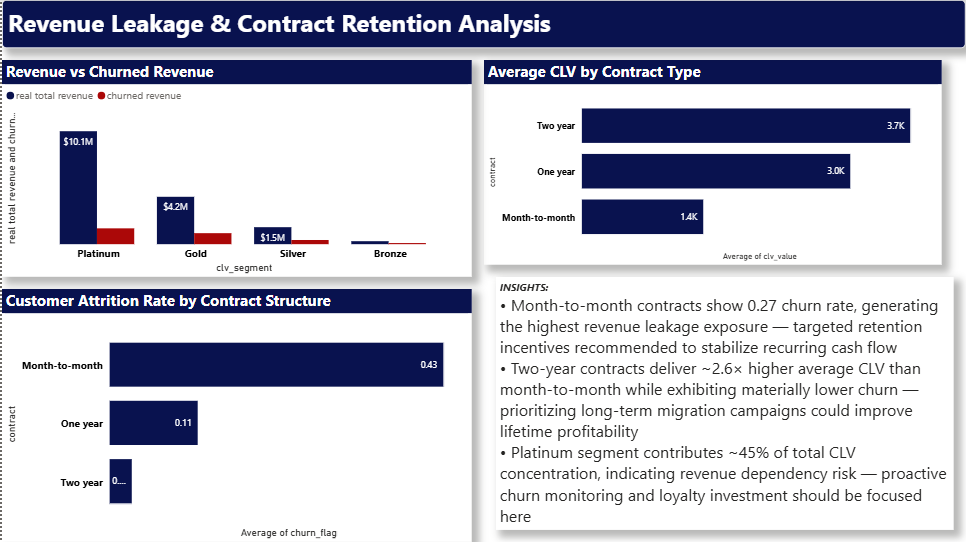

The page's visual inventory and layout, read from the dashboard file:
{"tool":"powerbi","page":{"name":"Retention Analysis","canvas":[1280,720],"ordinal":1},"visuals":[{"type":"clusteredBarChart","title":"Average CLV by Contract Type","fields":{"Y":["Avg(customer_clv_segmented.clv_value)"],"Category":["customers_clean.contract"]},"box":[640,80,608,272],"z":0},{"type":"barChart","title":"Customer Attrition Rate by Contract Structure","fields":{"Category":["customer_clv_segmented.contract"],"Y":["Avg(customer_clv_segmented.churn_flag)"]},"box":[0,384,624,336],"z":1000},{"type":"clusteredColumnChart","title":"Revenue vs Churned Revenue","fields":{"Category":["clv_forecast_model.clv_segment"],"Y":["churn reduction % 2.real total revenue","churn reduction % 2.churned revenue"]},"box":[0,80,624,288],"z":2000},{"type":"card","fields":{"Values":["churn reduction % 2.highest churn risk contract"]},"box":[1045.9,405.9,234.1,167],"z":3000},{"type":"card","fields":{"Values":["churn reduction % 2.highest revenue leakage"]},"box":[810.2,405.9,247.2,167],"z":4000},{"type":"card","fields":{"Values":["churn reduction % 2.high value at risk customers"]},"box":[1057.4,572.9,204.6,147.3],"z":5000},{"type":"card","fields":{"Values":["churn reduction % 2.best value contract"]},"box":[821.7,572.9,235.7,147.3],"z":6000},{"type":"textbox","box":[656,368,608,336],"z":7000},{"type":"textbox","box":[0,0,1280,64],"z":8000}]}

Visuals, with their boxes in screenshot pixels (x1, y1, x2, y2), scaled from the page's 1280x720 canvas onto the 966x542 screenshot:
"Average CLV by Contract Type" clusteredBarChart: bbox=[483, 60, 942, 265]
"Customer Attrition Rate by Contract Structure" barChart: bbox=[0, 289, 471, 541]
"Revenue vs Churned Revenue" clusteredColumnChart: bbox=[0, 60, 471, 277]
card - churn reduction % 2.highest churn risk contract: bbox=[789, 306, 965, 431]
card - churn reduction % 2.highest revenue leakage: bbox=[611, 306, 798, 431]
card - churn reduction % 2.high value at risk customers: bbox=[798, 431, 952, 541]
card - churn reduction % 2.best value contract: bbox=[620, 431, 798, 541]
textbox: bbox=[495, 277, 954, 530]
textbox: bbox=[0, 0, 965, 48]
